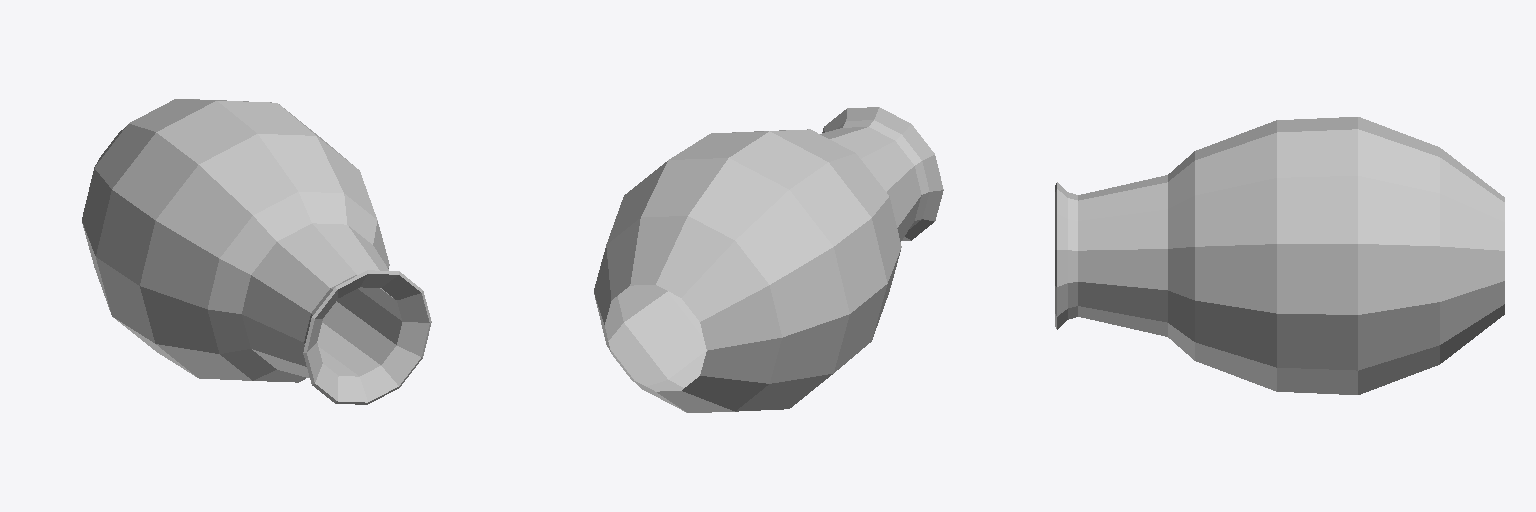
File: SmallVase.obj
The picture shows the model from 3 angles: view 1: azimuth 30°, elevation 25°; view 2: azimuth 150°, elevation 25°; view 3: azimuth 270°, elevation 25°; orthographic projection.
Visible parts, largest first — view 1: SmallVase; view 2: SmallVase; view 3: SmallVase.
Boxes of the visible parts, <box> form: SmallVase: <box>82,99,431,404</box>; SmallVase: <box>594,107,943,412</box>; SmallVase: <box>1055,117,1504,394</box>.
Size of the model in its own units: 2.57 by 2.57 by 4.12.